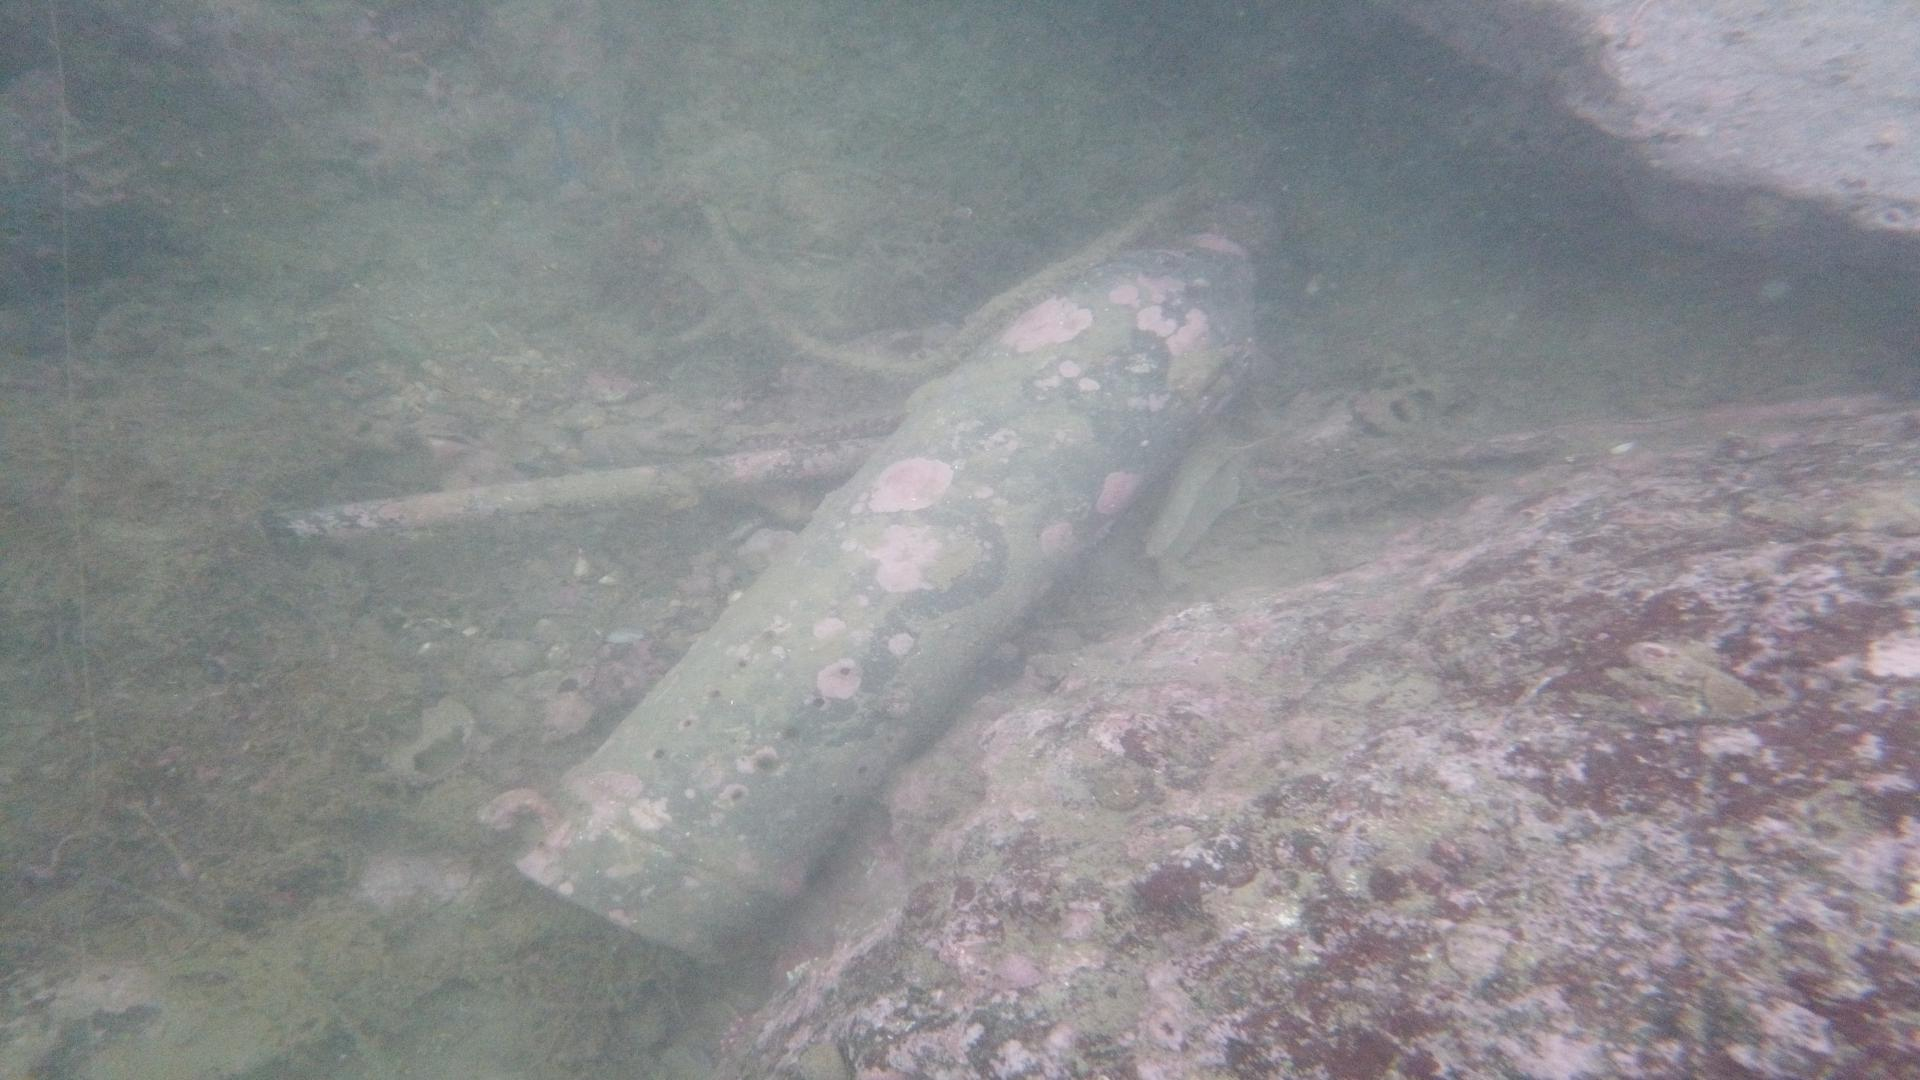eel fish trap: (509, 185, 1269, 973)
